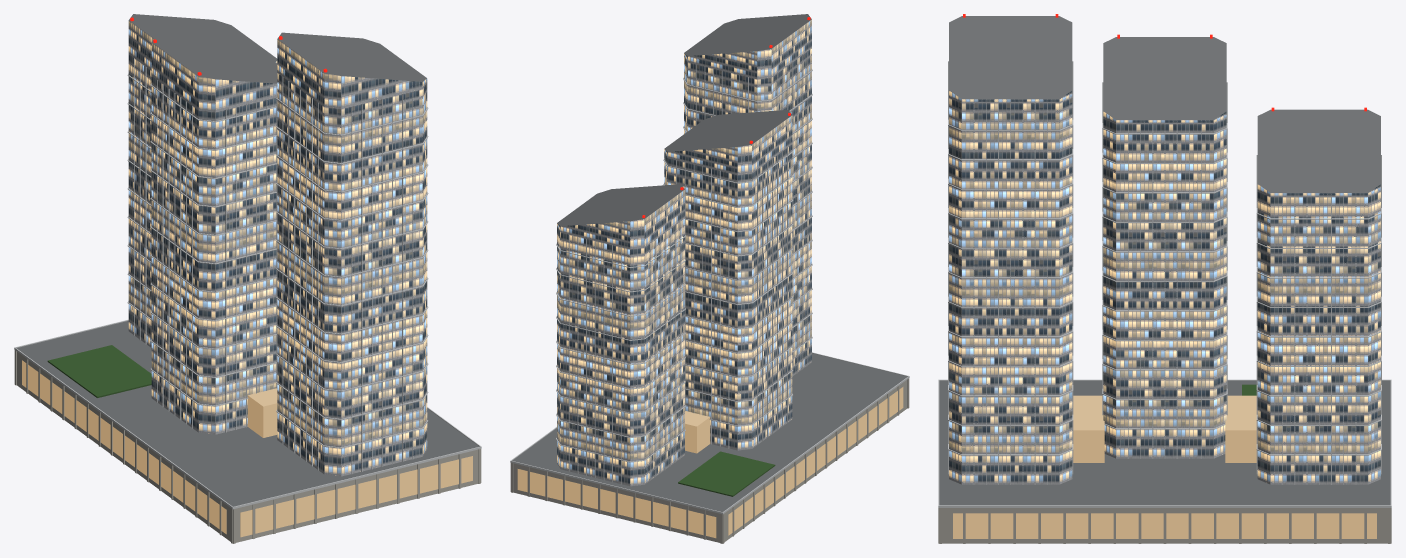
The model's file is harumi_triton.glb.
3 views of the same model, side by side, from view 1: azimuth 30°, elevation 25°; view 2: azimuth 150°, elevation 25°; view 3: azimuth 270°, elevation 25° (orthographic). The views are drawn at different scales.
Parts seen in each view (by area): view 1: harumi_triton; view 2: harumi_triton; view 3: harumi_triton.
Boxes of the visible parts, x1,y1,x2,y2 form: harumi_triton: [14, 14, 481, 543]; harumi_triton: [510, 14, 909, 543]; harumi_triton: [938, 14, 1391, 543].
Bounding box in the file's own units: 116 × 195 × 176.
2 materials, 2 textured.
